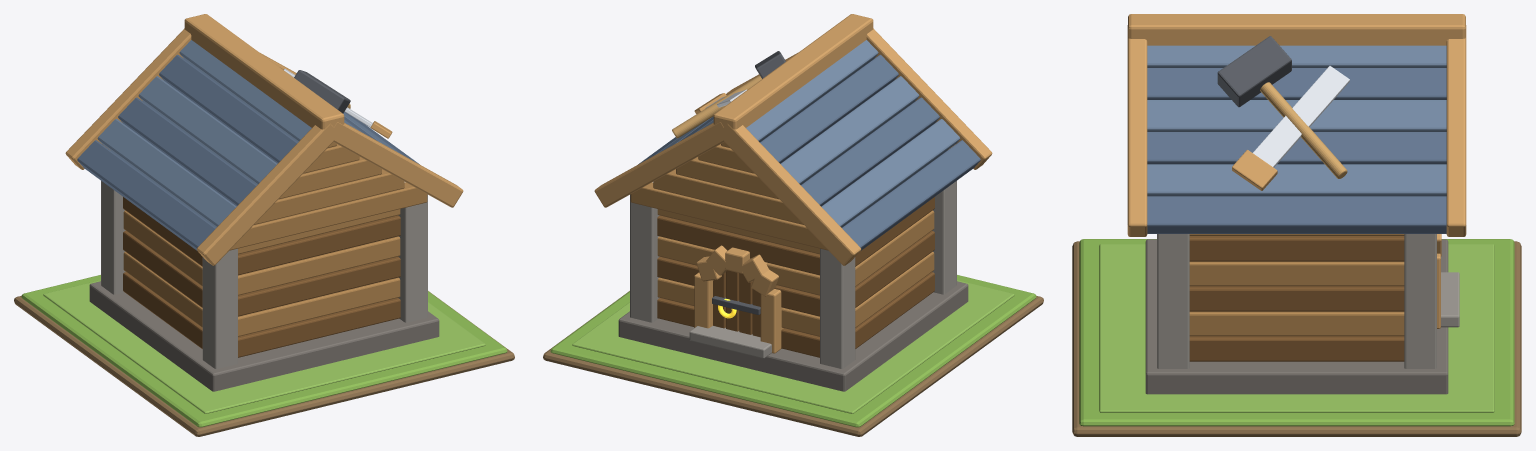
Rendered from builder_barracks_lv2.glb.
The picture shows the model from 3 angles, left to right: view 1: azimuth 30°, elevation 25°; view 2: azimuth 150°, elevation 25°; view 3: azimuth 270°, elevation 25°; orthographic projection. The views are drawn at different scales.
Visible parts, largest first — view 1: Base_Inner, BB_Foundation, Base_Grass, RidgeBeam, Base_Dirt, WallPlank_0, WallPlank_2, WallPlank_3, WallPlank_1, Bargeboard_-1_-1, RoofSlope_-1_5, WallPlank_4 (+16 smaller); view 2: Base_Inner, BB_Foundation, Base_Grass, RidgeBeam, Base_Dirt, Bargeboard_1_-1, RoofSlope_-1_5, RoofSlope_-1_3, RoofSlope_-1_2, RoofSlope_-1_1, RoofSlope_-1_4, WallPlank_4 (+25 smaller); view 3: Base_Inner, Base_Grass, BB_Foundation, RoofSlope_1_5, RidgeBeam, RoofSlope_1_4, RoofSlope_1_2, RoofSlope_1_3, Base_Dirt, RoofSlope_1_1, RoofSlope_1_0, WallPlank_0 (+14 smaller).
Part boxes in pixels (left/top/right/bottom): Base_Inner: left=43, top=280, right=485, bottom=413; BB_Foundation: left=89, top=281, right=439, bottom=391; Base_Grass: left=21, top=275, right=507, bottom=427; RidgeBeam: left=184, top=14, right=344, bottom=129; Base_Dirt: left=14, top=291, right=514, bottom=436; WallPlank_0: left=123, top=272, right=400, bottom=357; WallPlank_2: left=123, top=231, right=400, bottom=316; WallPlank_3: left=123, top=210, right=400, bottom=295; WallPlank_1: left=123, top=251, right=400, bottom=336; Bargeboard_-1_-1: left=196, top=124, right=338, bottom=265; RoofSlope_-1_5: left=77, top=140, right=215, bottom=250; WallPlank_4: left=123, top=197, right=400, bottom=275; Base_Inner: left=572, top=280, right=1014, bottom=413; BB_Foundation: left=618, top=281, right=968, bottom=391; Base_Grass: left=550, top=275, right=1036, bottom=427; RidgeBeam: left=713, top=14, right=873, bottom=129; Base_Dirt: left=543, top=291, right=1043, bottom=436; Bargeboard_1_-1: left=719, top=124, right=861, bottom=265; RoofSlope_-1_5: left=842, top=140, right=980, bottom=250; RoofSlope_-1_3: left=801, top=97, right=939, bottom=206; RoofSlope_-1_2: left=780, top=76, right=919, bottom=184; RoofSlope_-1_1: left=760, top=54, right=898, bottom=163; RoofSlope_-1_4: left=821, top=119, right=960, bottom=227; WallPlank_4: left=657, top=197, right=934, bottom=275; Base_Inner: left=1099, top=244, right=1494, bottom=412; Base_Grass: left=1079, top=239, right=1514, bottom=426; BB_Foundation: left=1145, top=239, right=1448, bottom=394; RoofSlope_1_5: left=1147, top=196, right=1446, bottom=233; RidgeBeam: left=1128, top=14, right=1465, bottom=45; RoofSlope_1_4: left=1147, top=164, right=1446, bottom=196; RoofSlope_1_2: left=1147, top=100, right=1446, bottom=131; RoofSlope_1_3: left=1147, top=132, right=1446, bottom=164; Base_Dirt: left=1072, top=241, right=1521, bottom=436; RoofSlope_1_1: left=1147, top=68, right=1446, bottom=99; RoofSlope_1_0: left=1147, top=45, right=1446, bottom=67; WallPlank_0: left=1189, top=336, right=1404, bottom=361.
Size of the model in its own units: 2.76 by 2.2 by 2.76.
